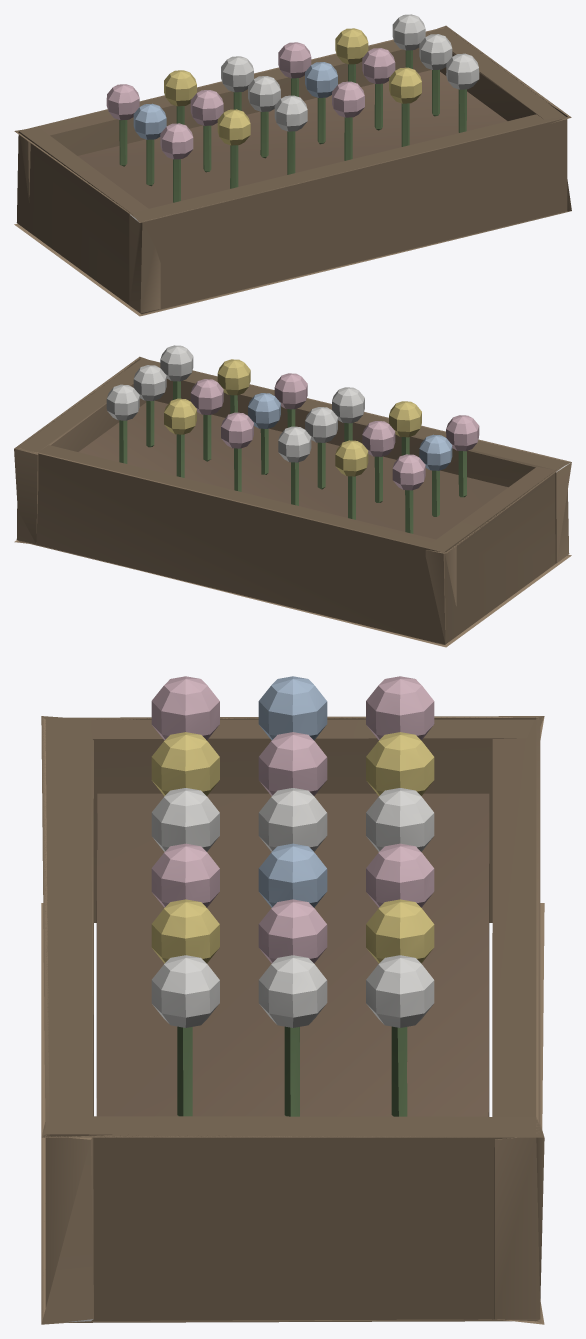
The model's file is flowerbed_low.glb.
3 views of the same model, one above another, from view 1: azimuth 30°, elevation 25°; view 2: azimuth 150°, elevation 25°; view 3: azimuth 270°, elevation 25° (orthographic). The views are drawn at different scales.
Size of the model in its own units: 1.21 by 0.395 by 0.61.
